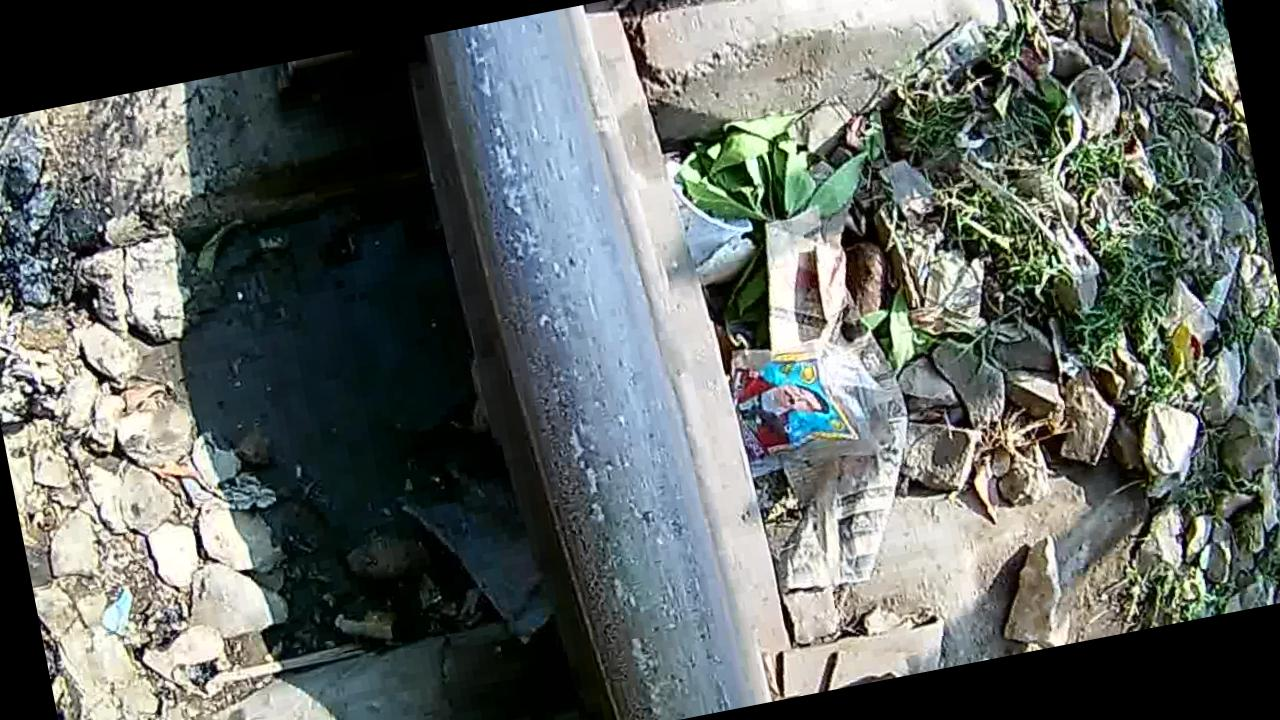clip_missing: (427, 1, 737, 720)
